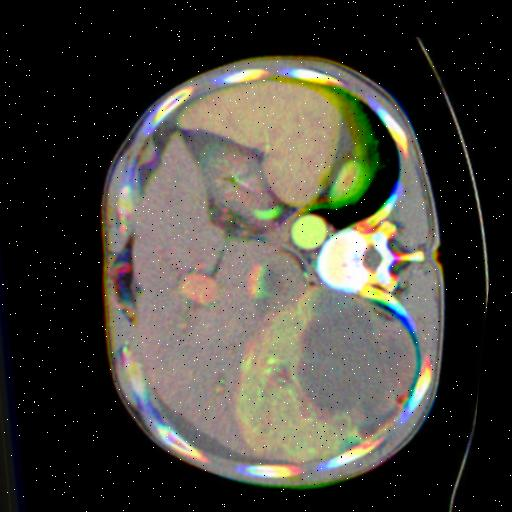Tumor: (304, 289, 423, 423)
